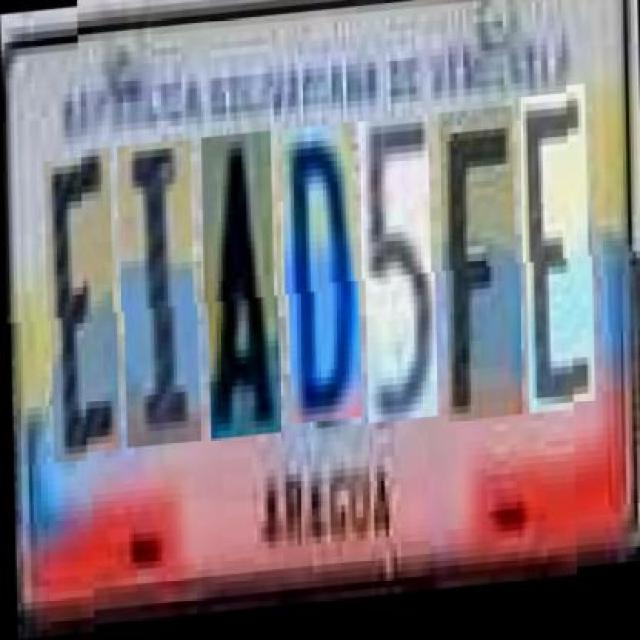5: (361, 123, 436, 431)
a: (204, 135, 279, 443)
d: (285, 128, 360, 430)
e: (521, 102, 594, 426), (47, 149, 118, 456)
f: (442, 116, 520, 432)
i: (120, 142, 198, 450)
